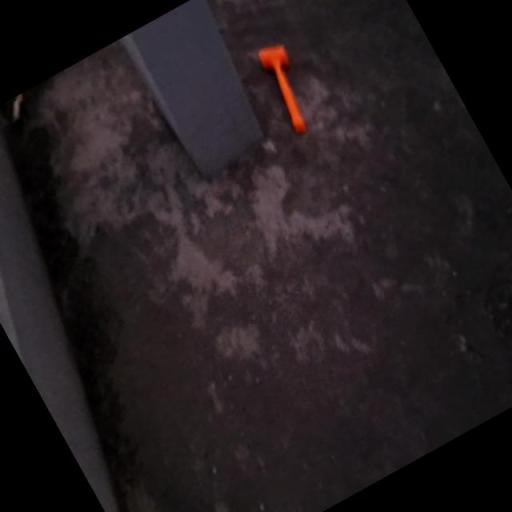mallet: (255, 40, 319, 130)
